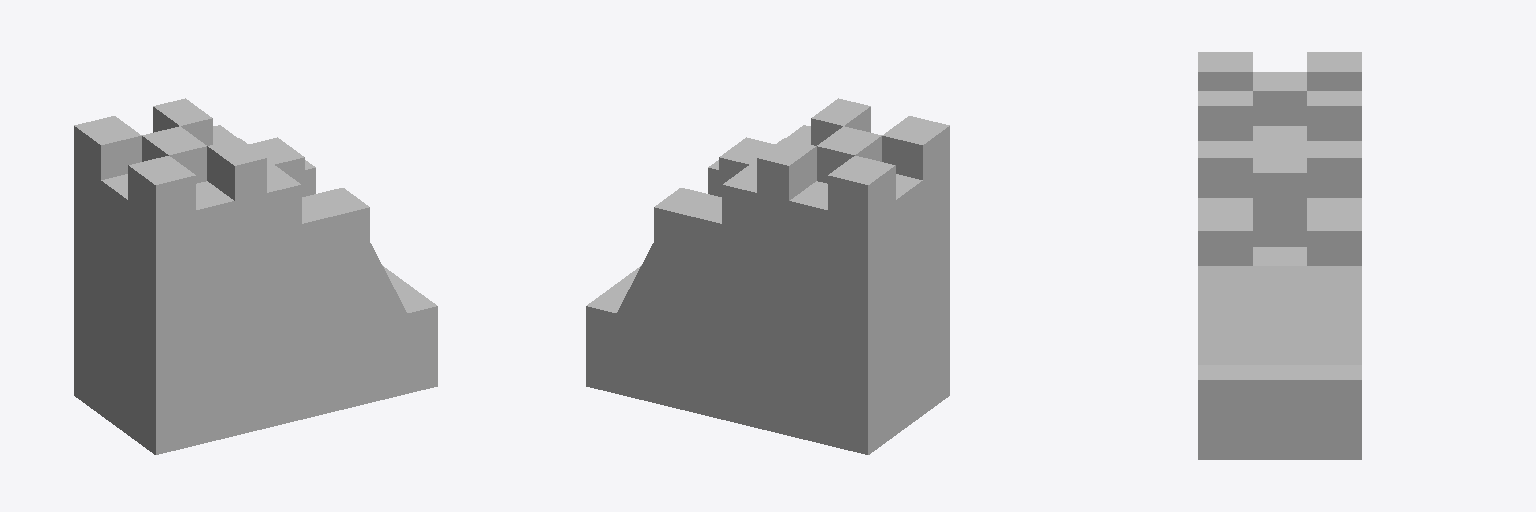
File: mHill1.obj
The picture shows the model from 3 angles: view 1: azimuth 30°, elevation 25°; view 2: azimuth 150°, elevation 25°; view 3: azimuth 270°, elevation 25°; orthographic projection.
Visible parts, largest first — view 1: mHill1 polySurface42; view 2: mHill1 polySurface42; view 3: mHill1 polySurface42.
Boxes of the visible parts, x1,y1,x2,y2 form: mHill1 polySurface42: [74, 98, 437, 454]; mHill1 polySurface42: [586, 98, 949, 454]; mHill1 polySurface42: [1198, 52, 1361, 459].
Size of the model in its own units: 18 by 16.44 by 9.